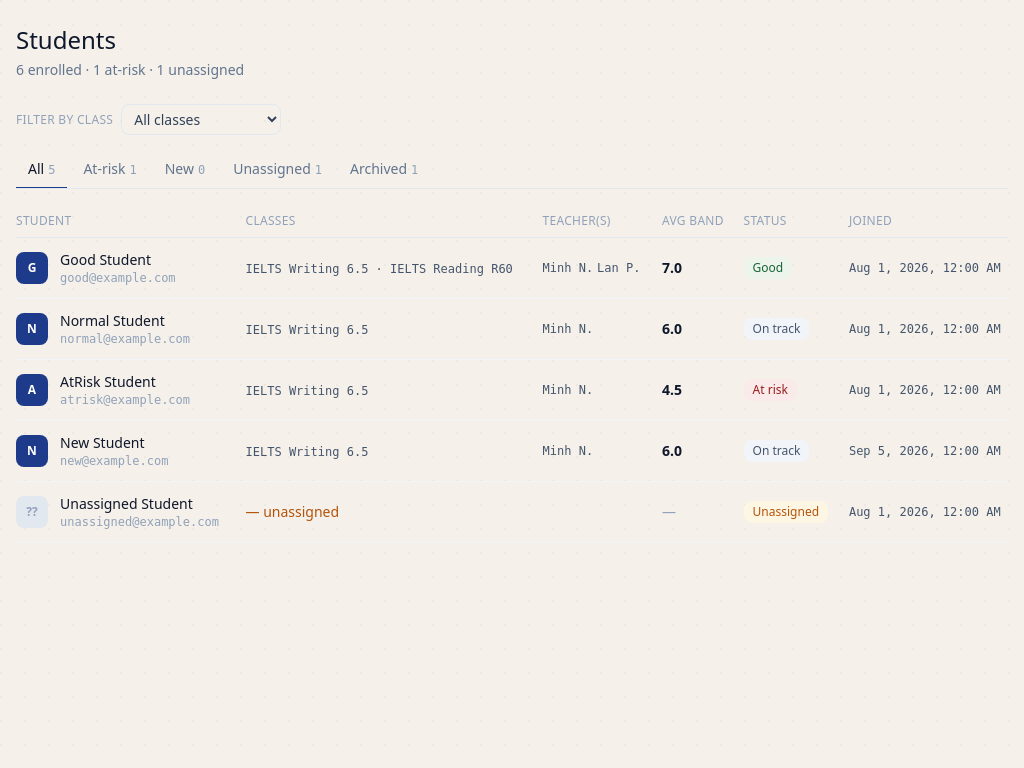
Test: StudentsCenterPage — AC8 tabs + superscript › P1 Archived tab shows the archived student and NOT an active one (negative)
Expected: the link "Good Student" is shown, [60,250,151,269]
What coordinates should you click on to do the following:
click the tab "Archived1"
I would click on:
 (384, 170)
Its box is [338,151,430,189].
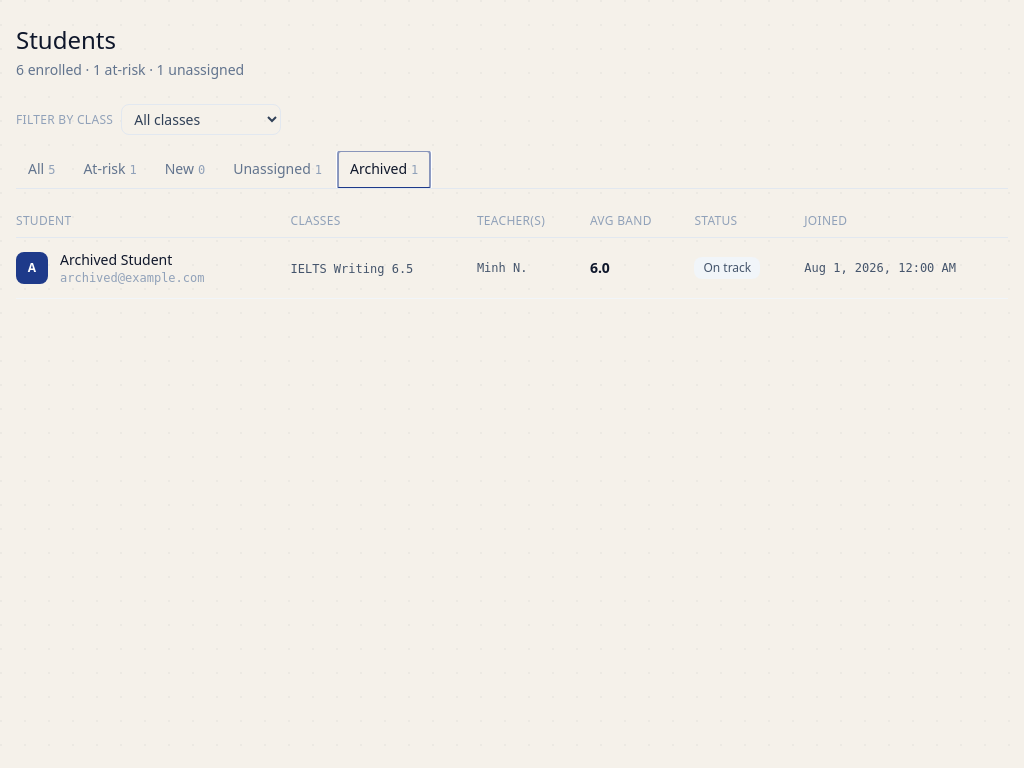
Result: the link "Archived Student" is shown at [60,250,172,269]
Result: the link "Good Student" is gone
